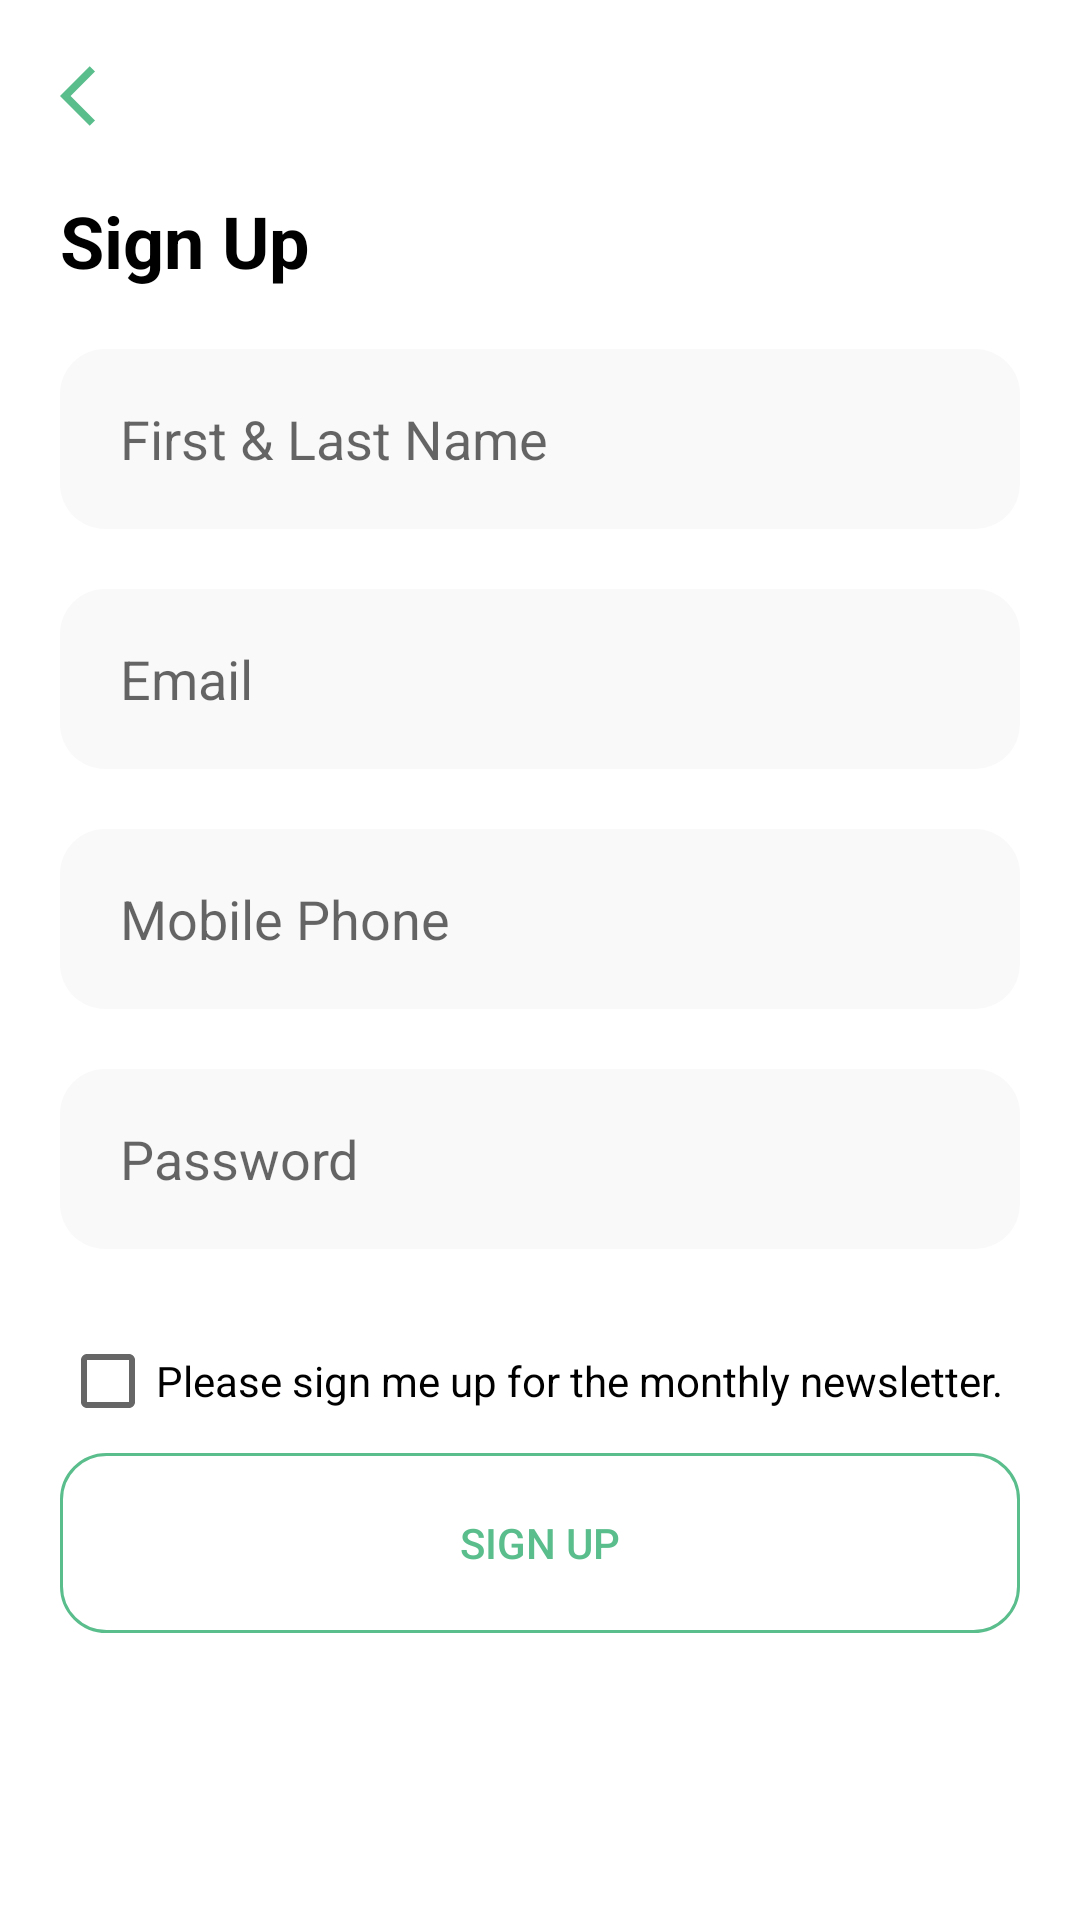

Where to tap for icons on this 1080×1920 app screen, as [x,y]:
arrow back: [77,96]
